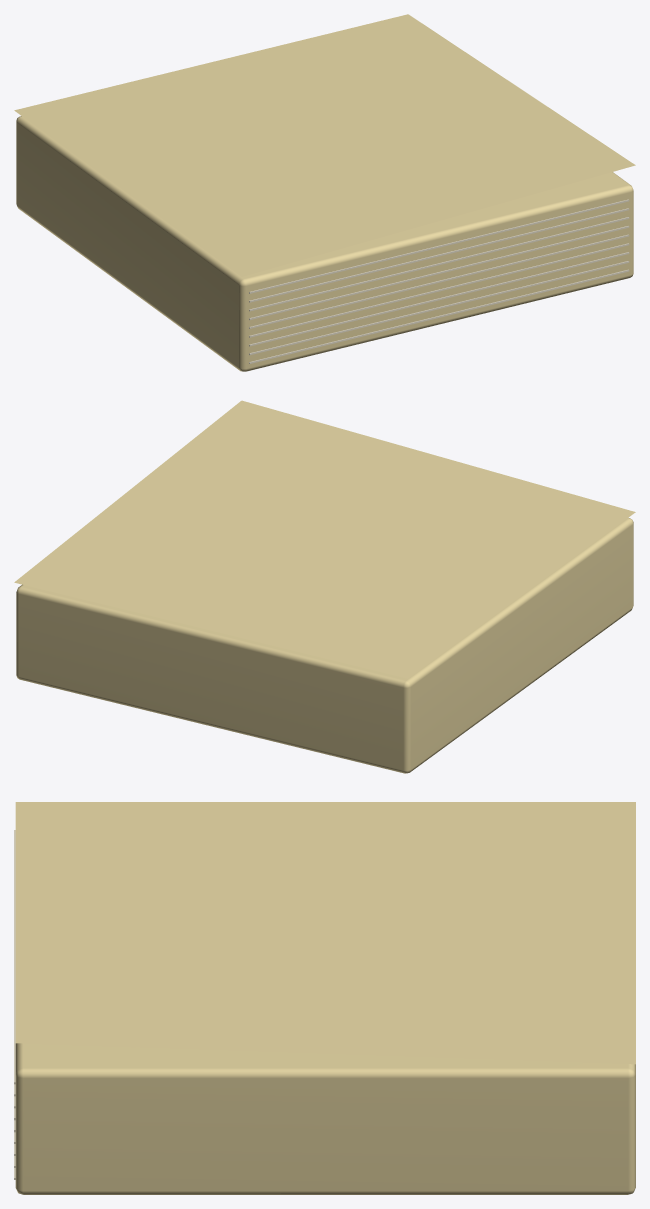
File: StickyNotes_Stack.fbx
3 views of the same model, one above another, from view 1: azimuth 30°, elevation 25°; view 2: azimuth 150°, elevation 25°; view 3: azimuth 270°, elevation 25° (orthographic). The views are drawn at different scales.
Parts seen in each view (by area): view 1: StickyNotes_Stack.001; view 2: StickyNotes_Stack.001; view 3: StickyNotes_Stack.001.
Boxes of the visible parts, x1,y1,x2,y2 form: StickyNotes_Stack.001: (14,14,635,371); StickyNotes_Stack.001: (14,400,635,773); StickyNotes_Stack.001: (14,802,635,1194).
Bounding box in the file's own units: 8 × 2.2 × 8.02.
